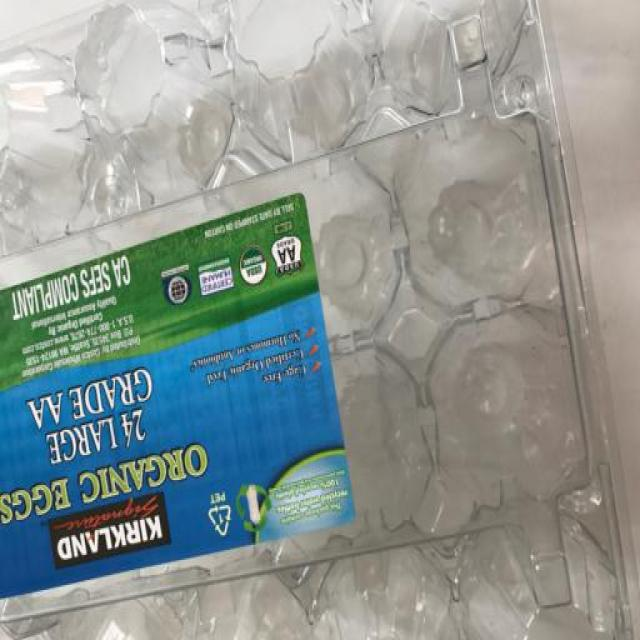plastic: (3, 1, 640, 640)
